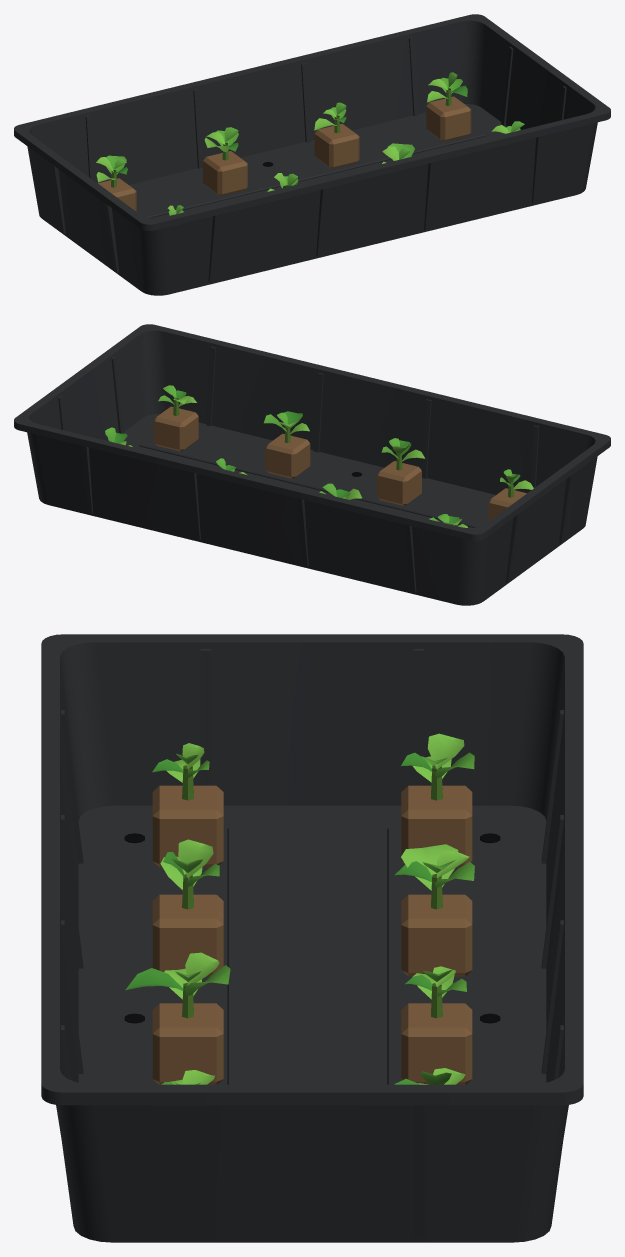
Rendered from item-9.glb.
The picture shows the model from 3 angles, top to bottom: view 1: azimuth 30°, elevation 25°; view 2: azimuth 150°, elevation 25°; view 3: azimuth 270°, elevation 25°; orthographic projection. The views are drawn at different scales.
Parts seen in each view (by area): view 1: tray, plug.007, plug.005, plug.003, ridge.001, seedling.007, seedling.003, seedling.001, plug.001, seedling.005, irib.005, irib.007 (+10 smaller); view 2: tray, plug.006, plug.004, plug.002, ridge, seedling.004, plug, seedling.002, irib.004, irib.006, irib.002, rib.003 (+8 smaller); view 3: tray, plug.003, plug.004, plug.005, plug.002, plug, plug.001, ridge.001, ridge, seedling.003, seedling.004, seedling.001 (+13 smaller).
Boxes of the visible parts, x1,y1,x2,y2 form: tray: (14,14,610,295); plug.007: (426,96,471,141); plug.005: (314,123,359,168); plug.003: (203,151,247,195); ridge.001: (143,133,485,217); seedling.007: (427,72,467,105); seedling.003: (204,127,238,160); seedling.001: (96,155,127,187); plug.001: (98,178,136,211); seedling.005: (314,102,346,133); irib.005: (301,63,311,142); irib.007: (409,36,418,116); tray: (14,324,610,605); plug.006: (153,406,198,451); plug.004: (265,433,310,478); plug.002: (377,461,421,505); ridge: (139,443,481,527); seedling.004: (264,411,309,443); plug: (488,488,526,521); seedling.002: (381,438,425,470); irib.004: (313,373,323,452); irib.006: (206,346,215,426); irib.002: (422,399,431,478); rib.003: (297,498,308,566); tray: (41,634,583,1242); plug.003: (401,894,472,976); plug.004: (152,1003,223,1084); plug.005: (401,1003,472,1084); plug.002: (152,894,223,976); plug: (152,785,223,867); plug.001: (401,785,472,867); ridge.001: (387,828,397,1084); ridge: (227,828,237,1084); seedling.003: (394,844,474,909); seedling.004: (125,952,230,1018); seedling.001: (401,733,474,800).
Bounding box in the file's own units: 0.61 × 0.1016 × 0.305.
